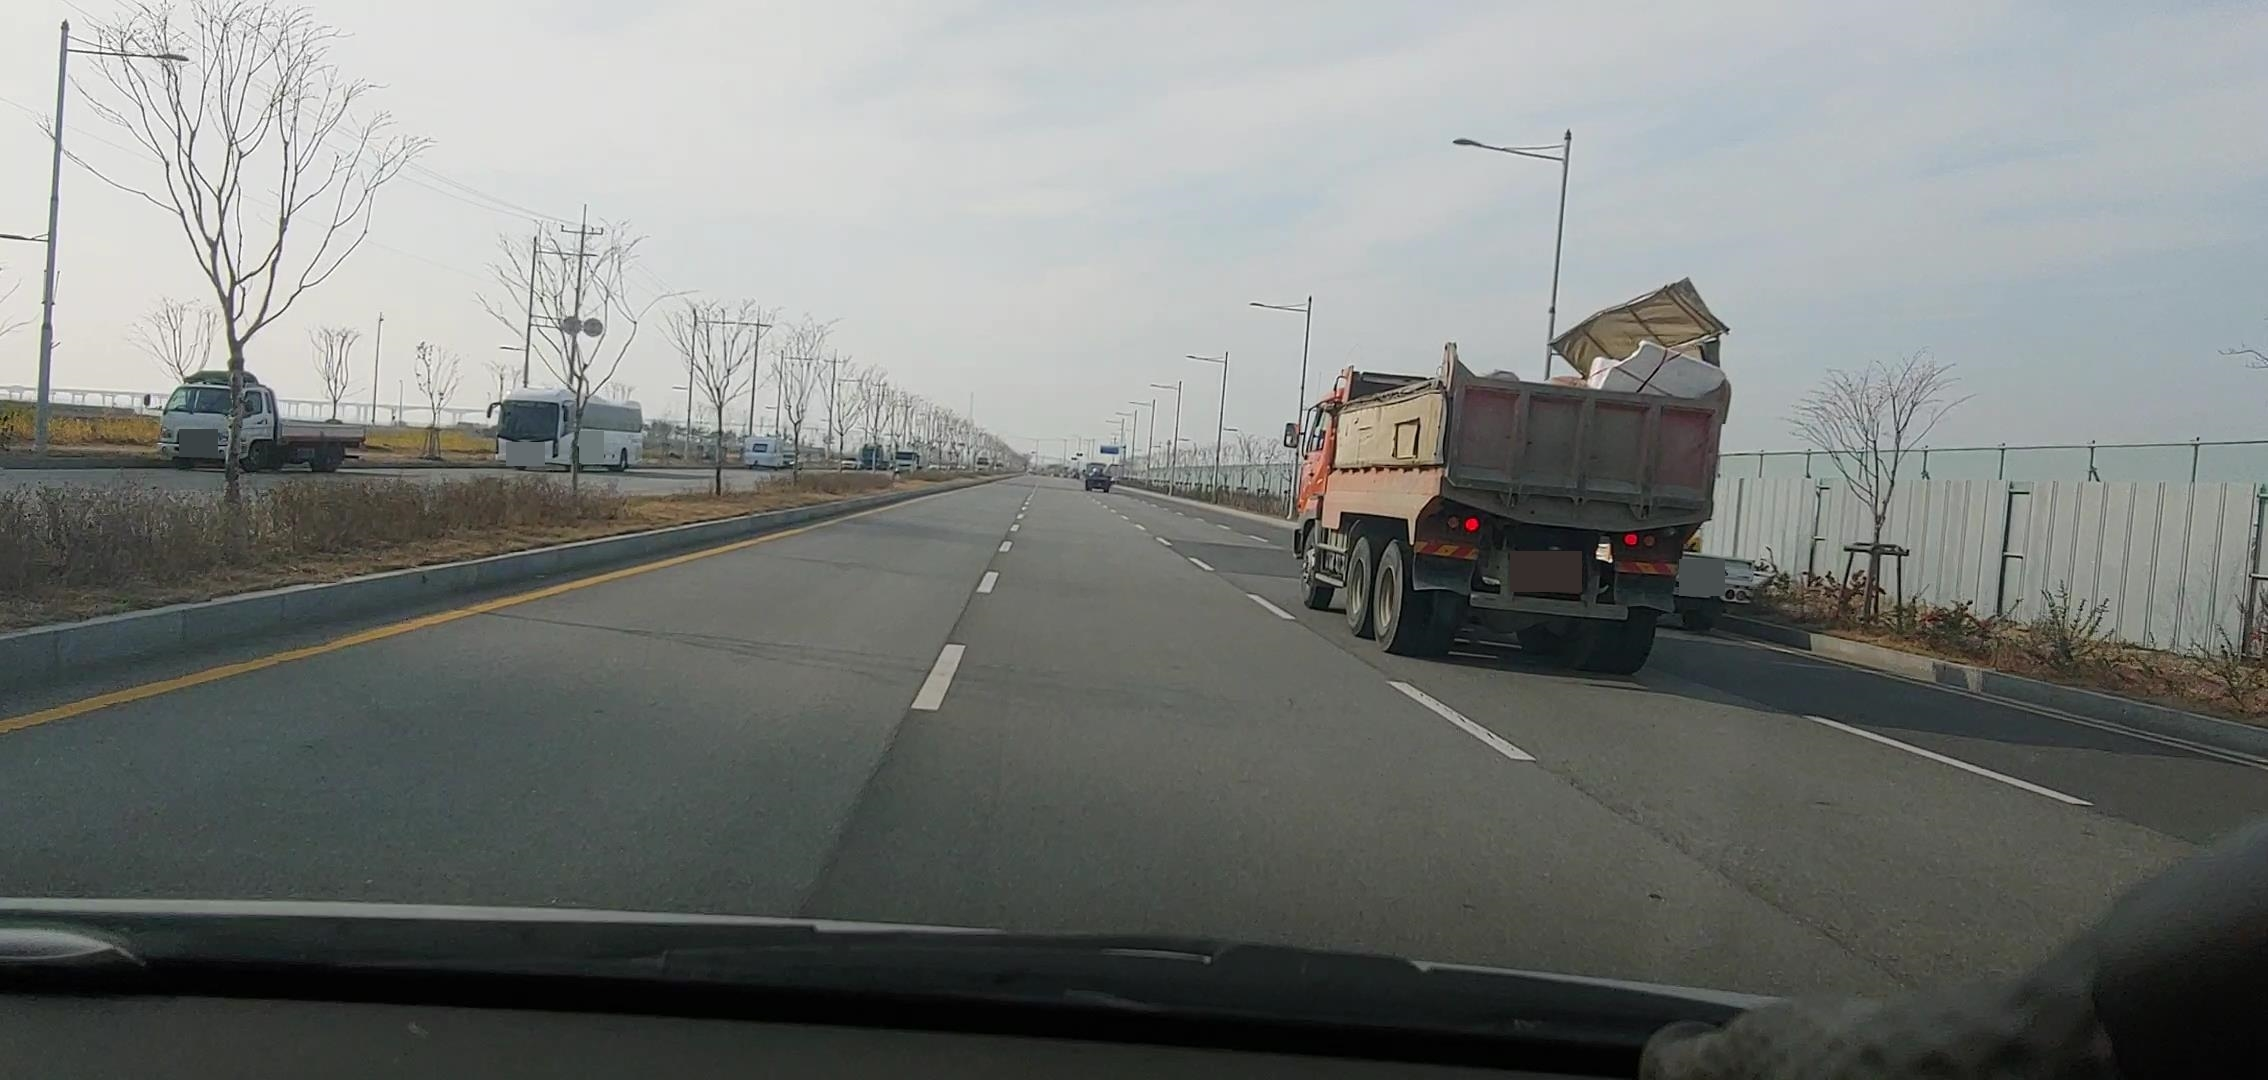불법차량: (1283, 276, 1731, 678)
